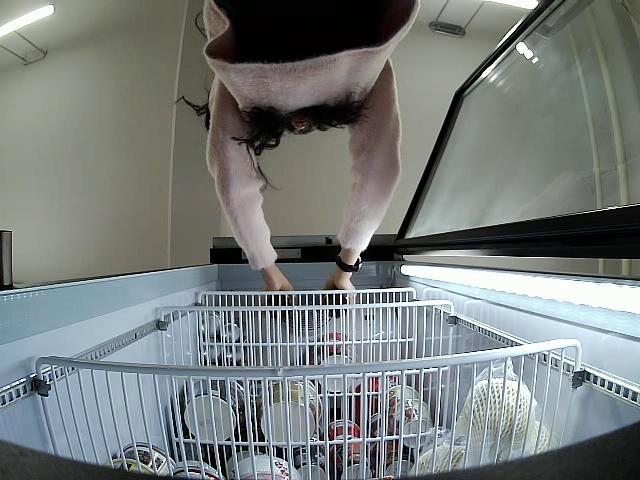19_17cha: (322, 293, 348, 318), (268, 294, 292, 318)
